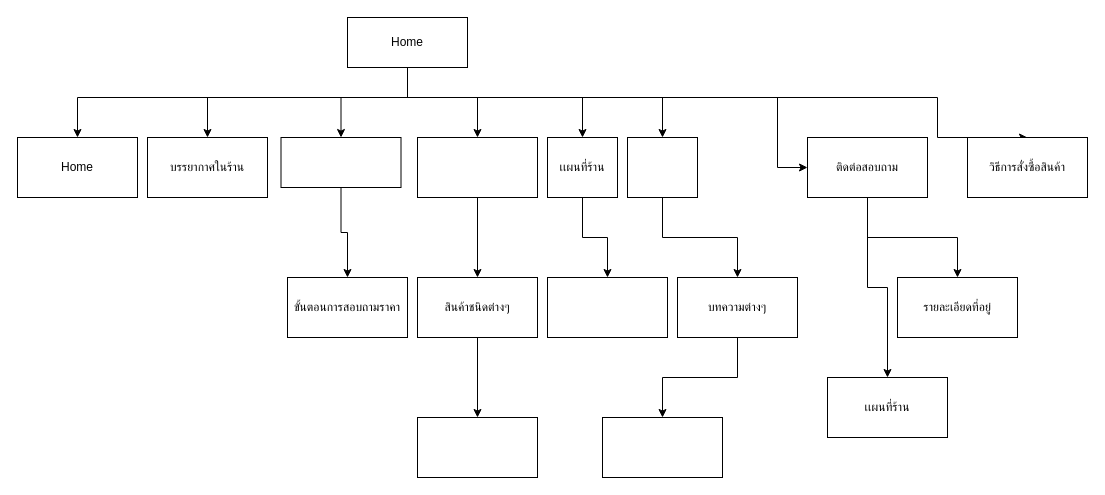
This 1105x495 diagram has some shape labels left out. The centre of each missing label's shape, as x and y in pixels:
"Google map" belongs at (607,307).
"webboard" belongs at (340,162).
"บทความ" belongs at (662,167).
"รายละเอียดของบทความ" belongs at (662,447).
"รายละเอียดของสินค้า" belongs at (477,447).
"สินค้า" belongs at (477,167).
